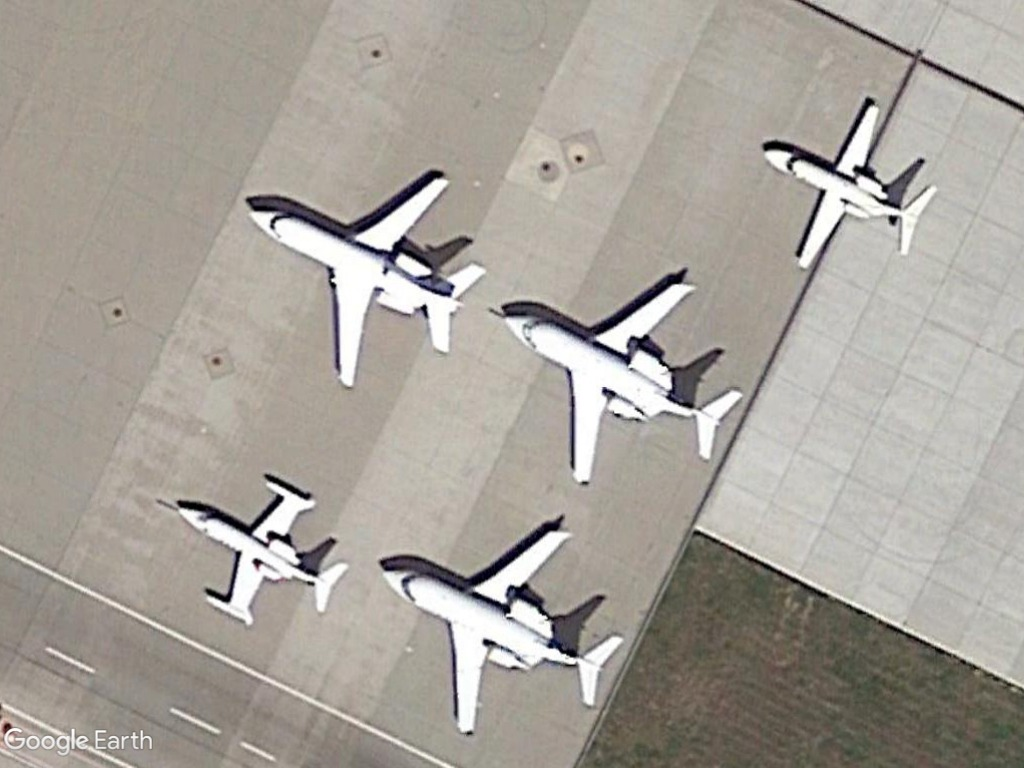chartered: (375, 524, 627, 744), (246, 169, 488, 393), (496, 276, 742, 489), (754, 96, 942, 277), (175, 474, 354, 628)
